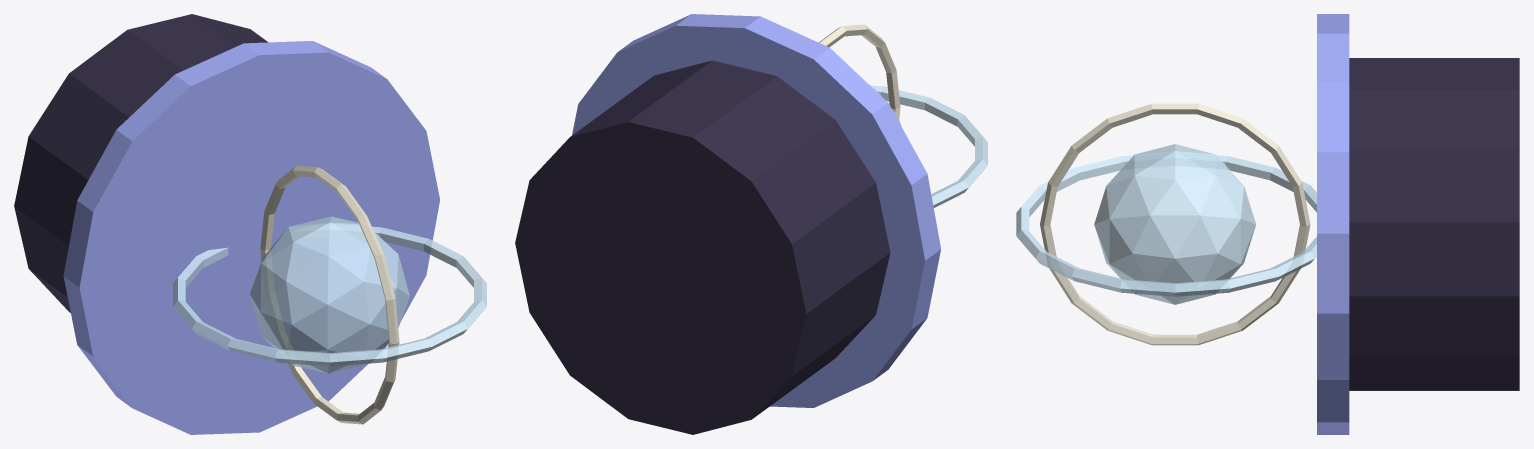
Rendered from 09_high_tier_relic_pedestal.glb.
The picture shows the model from 3 angles, left to right: view 1: azimuth 30°, elevation 25°; view 2: azimuth 150°, elevation 25°; view 3: azimuth 270°, elevation 25°; orthographic projection.
Visible parts, largest first — view 1: top_rim, relic_pedestal, floating_relic_core, relic_orbit_a, relic_orbit_b; view 2: relic_pedestal, top_rim, relic_orbit_a, relic_orbit_b; view 3: relic_pedestal, floating_relic_core, top_rim, relic_orbit_b, relic_orbit_a.
Boxes of the visible parts, <box> form: top_rim: <box>63,41,439,434</box>; relic_pedestal: <box>14,14,267,312</box>; floating_relic_core: <box>250,216,409,373</box>; relic_orbit_a: <box>173,226,486,366</box>; relic_orbit_b: <box>260,165,399,424</box>; relic_pedestal: <box>515,60,890,434</box>; top_rim: <box>572,14,940,407</box>; relic_orbit_a: <box>871,85,987,207</box>; relic_orbit_b: <box>819,24,900,119</box>; relic_pedestal: <box>1349,58,1519,390</box>; floating_relic_core: <box>1094,144,1255,304</box>; top_rim: <box>1317,14,1349,434</box>; relic_orbit_b: <box>1040,103,1310,345</box>; relic_orbit_a: <box>1016,155,1316,296</box>.
Bounding box in the file's own units: 1.04 × 1.04 × 1.24.
